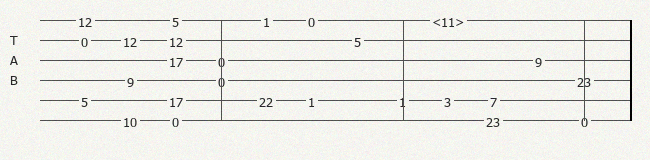0: (81, 34, 92, 47), (172, 114, 183, 127), (218, 74, 229, 87), (218, 54, 229, 67), (308, 14, 319, 27), (581, 114, 592, 127)
1: (263, 14, 274, 27), (308, 94, 319, 107), (399, 94, 410, 107)
10: (123, 114, 141, 127)
12: (78, 14, 96, 27), (123, 34, 141, 47), (169, 34, 187, 47)
17: (169, 54, 187, 67), (169, 94, 187, 107)
22: (259, 94, 277, 107)
23: (486, 114, 504, 127), (577, 74, 595, 87)
3: (444, 94, 455, 107)
5: (81, 94, 92, 107), (172, 14, 183, 27), (354, 34, 365, 47)
7: (490, 94, 501, 107)
9: (127, 74, 138, 87), (535, 54, 546, 67)
harmonic: (432, 14, 468, 27)
